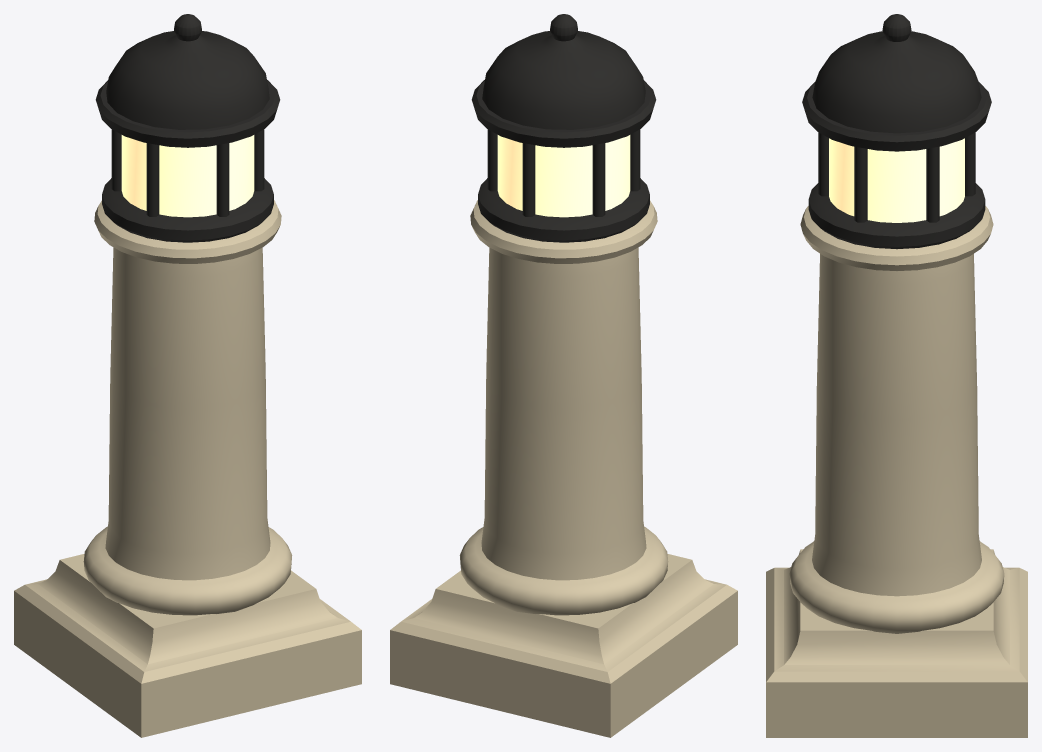
3 views of the same model, side by side, from view 1: azimuth 30°, elevation 25°; view 2: azimuth 150°, elevation 25°; view 3: azimuth 270°, elevation 25° (orthographic). The views are drawn at different scales.
Parts seen in each view (by area): view 1: Bollard_Stone, Head_Iron, Band_Glow; view 2: Bollard_Stone, Head_Iron, Band_Glow; view 3: Bollard_Stone, Head_Iron, Band_Glow.
Part boxes in pixels (x1,y1,x2,y2): Bollard_Stone: (14,200,361,737); Head_Iron: (95,14,280,242); Band_Glow: (121,135,254,217); Bollard_Stone: (390,200,737,737); Head_Iron: (471,14,656,242); Band_Glow: (497,135,630,217); Bollard_Stone: (766,206,1027,737); Head_Iron: (802,14,991,249); Band_Glow: (829,138,964,222).
Size of the model in its own units: 0.32 by 0.9 by 0.32.
